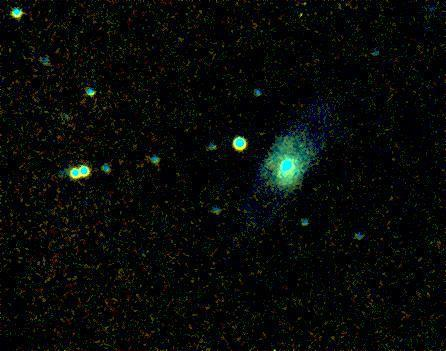star: (261, 155, 291, 185)
